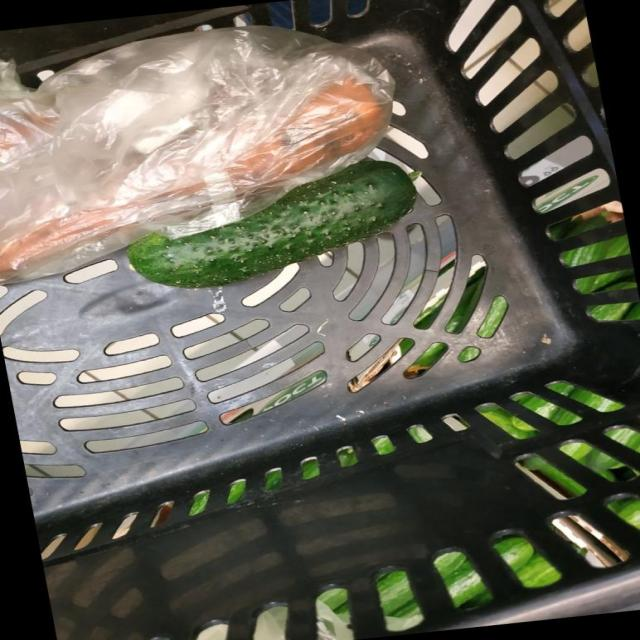Carrot: (225, 79, 386, 187), (0, 237, 56, 272)
Cucumber: (127, 160, 416, 289)
